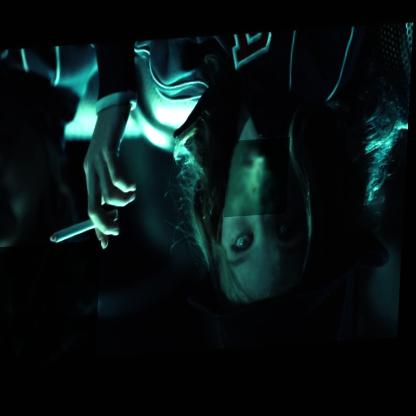smoke: (0, 242, 104, 365), (226, 141, 292, 221)
